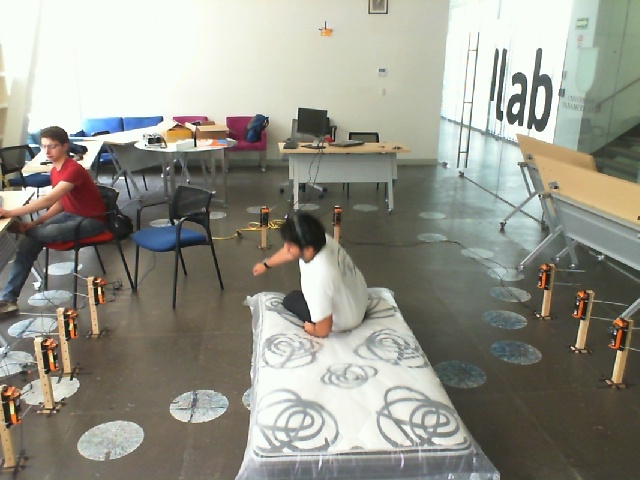fall: (250, 207, 381, 337)
not_fallen: (0, 118, 106, 321)
